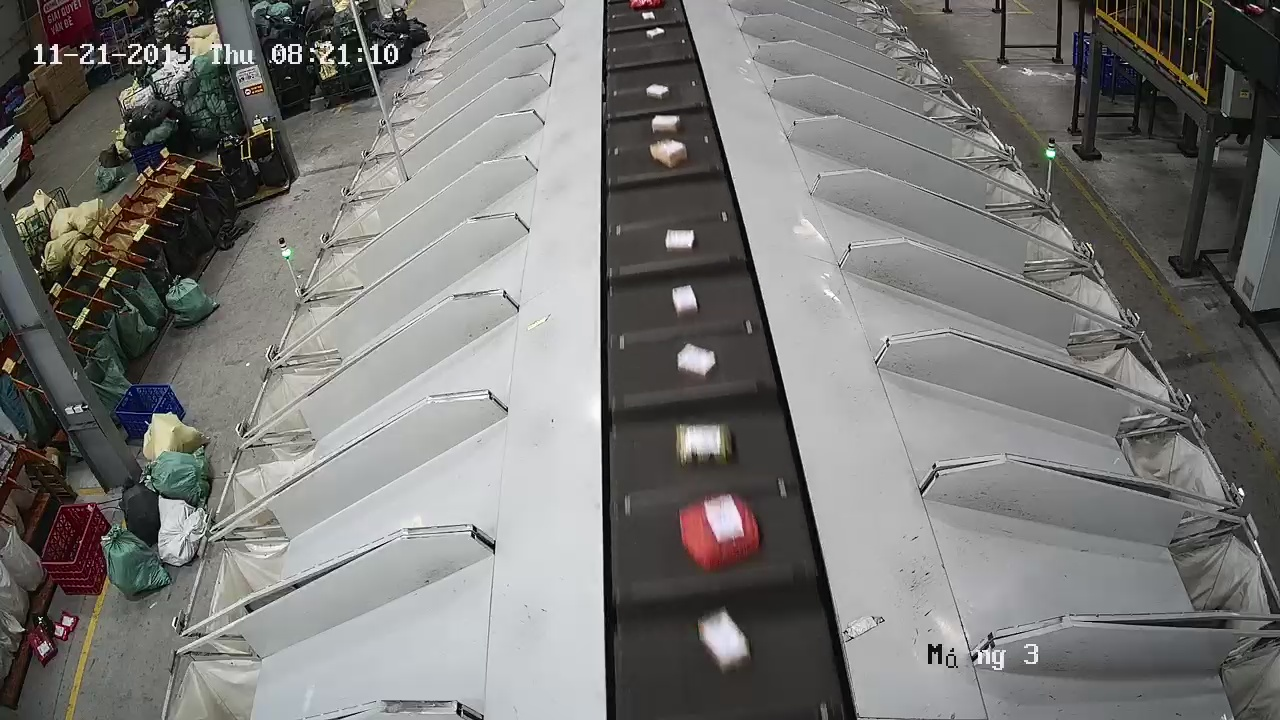parcel: (677, 491, 762, 575), (673, 420, 736, 471), (675, 342, 722, 384), (670, 283, 700, 321), (662, 227, 698, 257)
